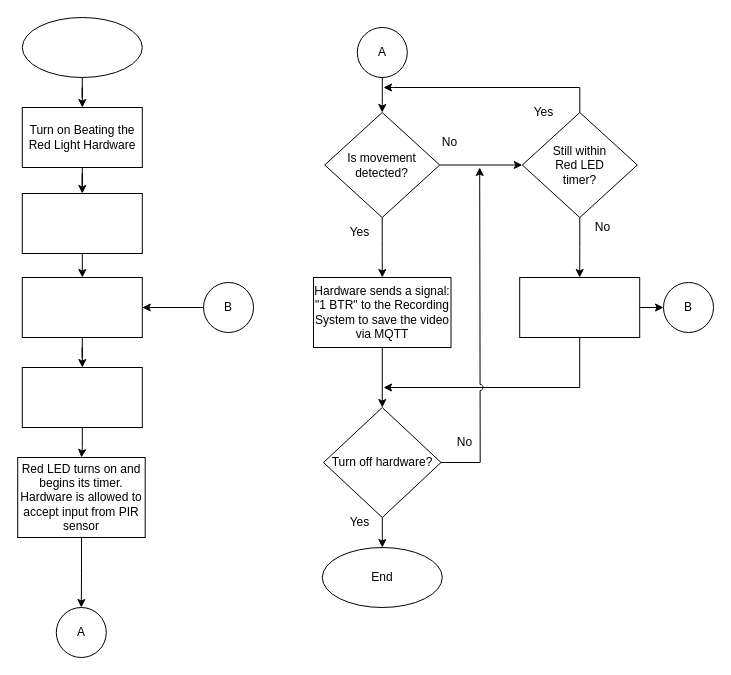
The diagram is 731 pixels wide and 675 high, and some of its shapes have lost their labels. Here are the shapes that lost their labels. From the top down, the centre of each, then its label:
(81,47): Start
(81,223): Hardware connects to WiFi network and subscribes to "BTR" MQTT topic
(81,307): Green LED turns on then turns off after its given duration
(579,307): Turn off Red LED
(81,397): Yellow LED turns on then turns off after its given duration
